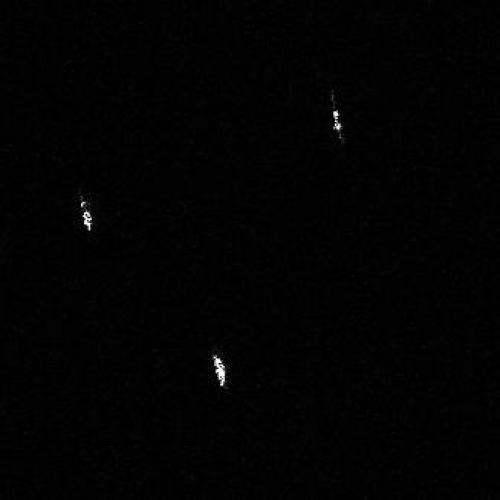ship: (211, 353, 228, 389), (79, 201, 94, 233), (331, 108, 344, 136)
